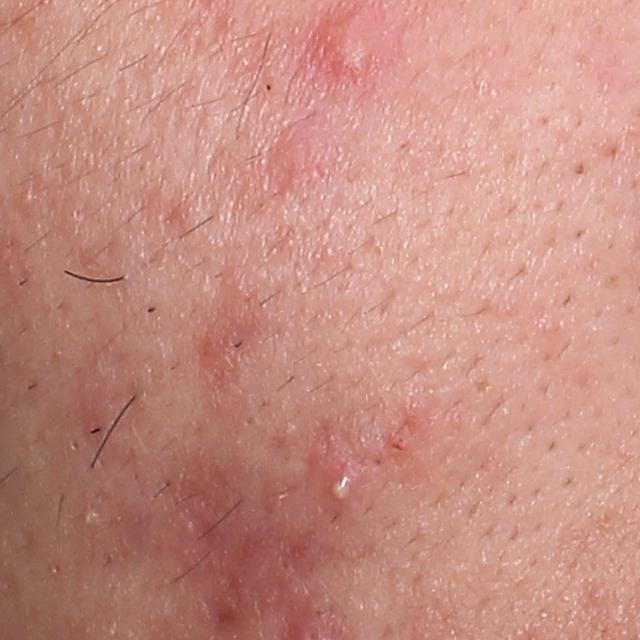papule: (320, 6, 370, 72)
pustule: (324, 471, 361, 506)
